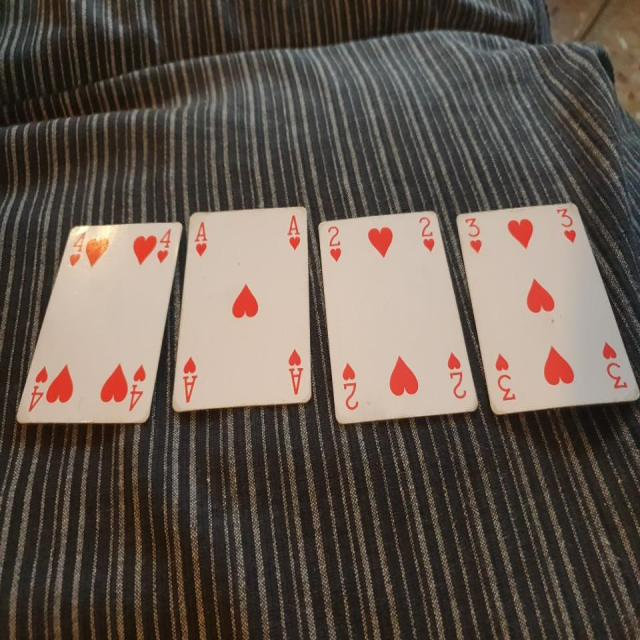2 Hearts: (314, 205, 475, 424)
3 Hearts: (456, 191, 640, 417)
4 Hearts: (10, 214, 187, 427)
A Hearts: (172, 197, 321, 418)
